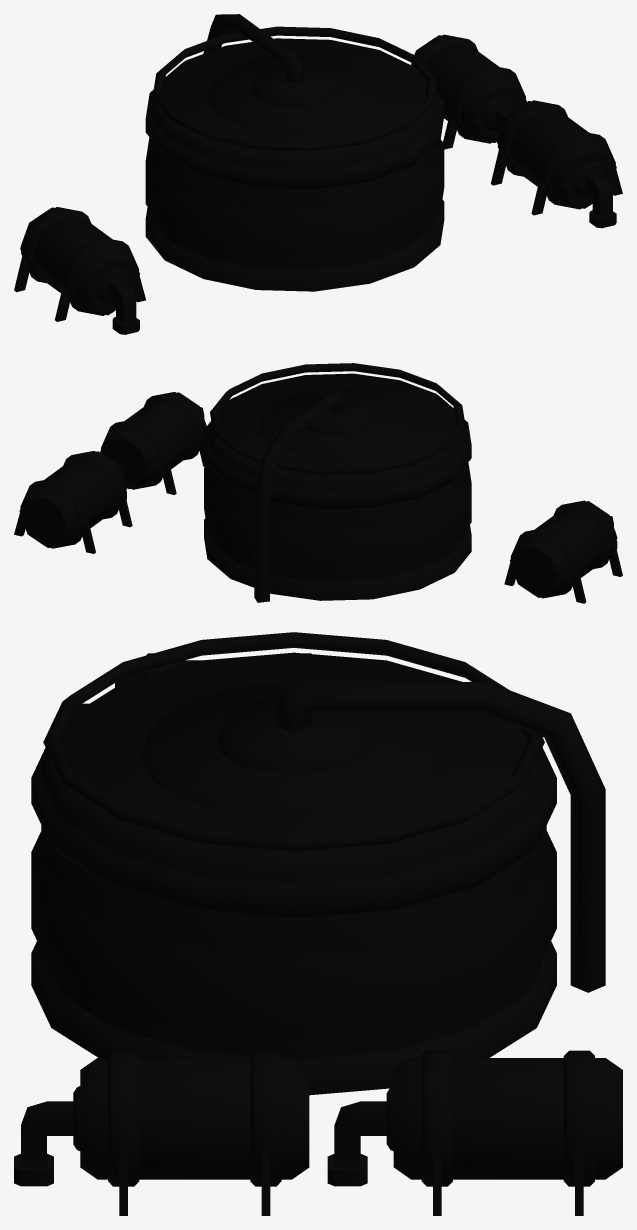
The model's file is tank-farm.glb.
3 renders of one model, top to bottom at view 1: azimuth 30°, elevation 25°; view 2: azimuth 150°, elevation 25°; view 3: azimuth 270°, elevation 25°, orthographic. The views are drawn at different scales.
Parts seen in each view (by area): view 1: detail-tank-large; view 2: detail-tank-large; view 3: detail-tank-large.
Boxes of the visible parts, x1,y1,x2,y2 form: detail-tank-large: (14,14,622,334); detail-tank-large: (14,363,622,603); detail-tank-large: (14,632,622,1215).
Bounding box in the file's own units: 3.22 × 0.9617 × 1.75.
1 material, 1 textured.
